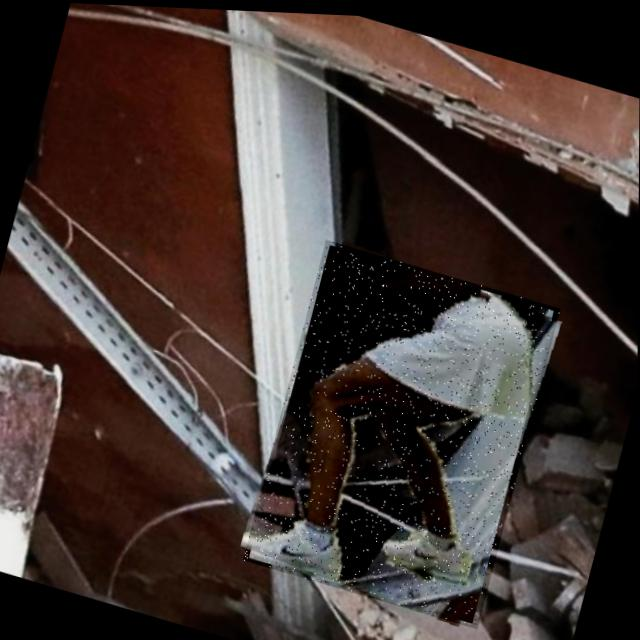Person in Rubble: (242, 233, 560, 627)
